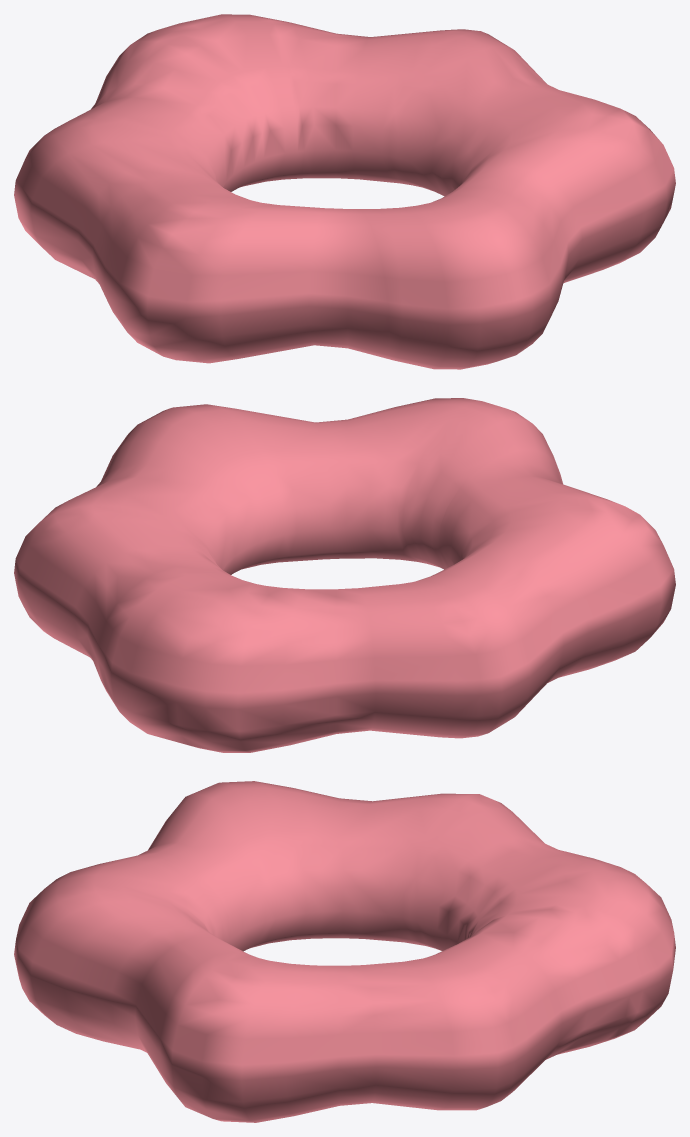
File: SwimRing2-cut.FBX
3 views of the same model, one above another, from view 1: azimuth 30°, elevation 25°; view 2: azimuth 150°, elevation 25°; view 3: azimuth 270°, elevation 25° (orthographic). The views are drawn at different scales.
Parts seen in each view (by area): view 1: youyongquan:AM94_026_obj_0004_Part_1, youyongquan:AM94_026_obj_0004_Part_2; view 2: youyongquan:AM94_026_obj_0004_Part_1, youyongquan:AM94_026_obj_0004_Part_2; view 3: youyongquan:AM94_026_obj_0004_Part_2, youyongquan:AM94_026_obj_0004_Part_1.
Boxes of the visible parts, left/top/right/bottom form: youyongquan:AM94_026_obj_0004_Part_1: left=14, top=14, right=389, bottom=363; youyongquan:AM94_026_obj_0004_Part_2: left=268, top=18, right=675, bottom=369; youyongquan:AM94_026_obj_0004_Part_1: left=103, top=449, right=675, bottom=752; youyongquan:AM94_026_obj_0004_Part_2: left=14, top=398, right=561, bottom=697; youyongquan:AM94_026_obj_0004_Part_2: left=14, top=856, right=642, bottom=1122; youyongquan:AM94_026_obj_0004_Part_1: left=133, top=781, right=675, bottom=1043.
Size of the model in its own units: 59.16 by 14.83 by 64.57.
